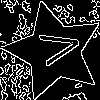V: (29, 26, 83, 69)
